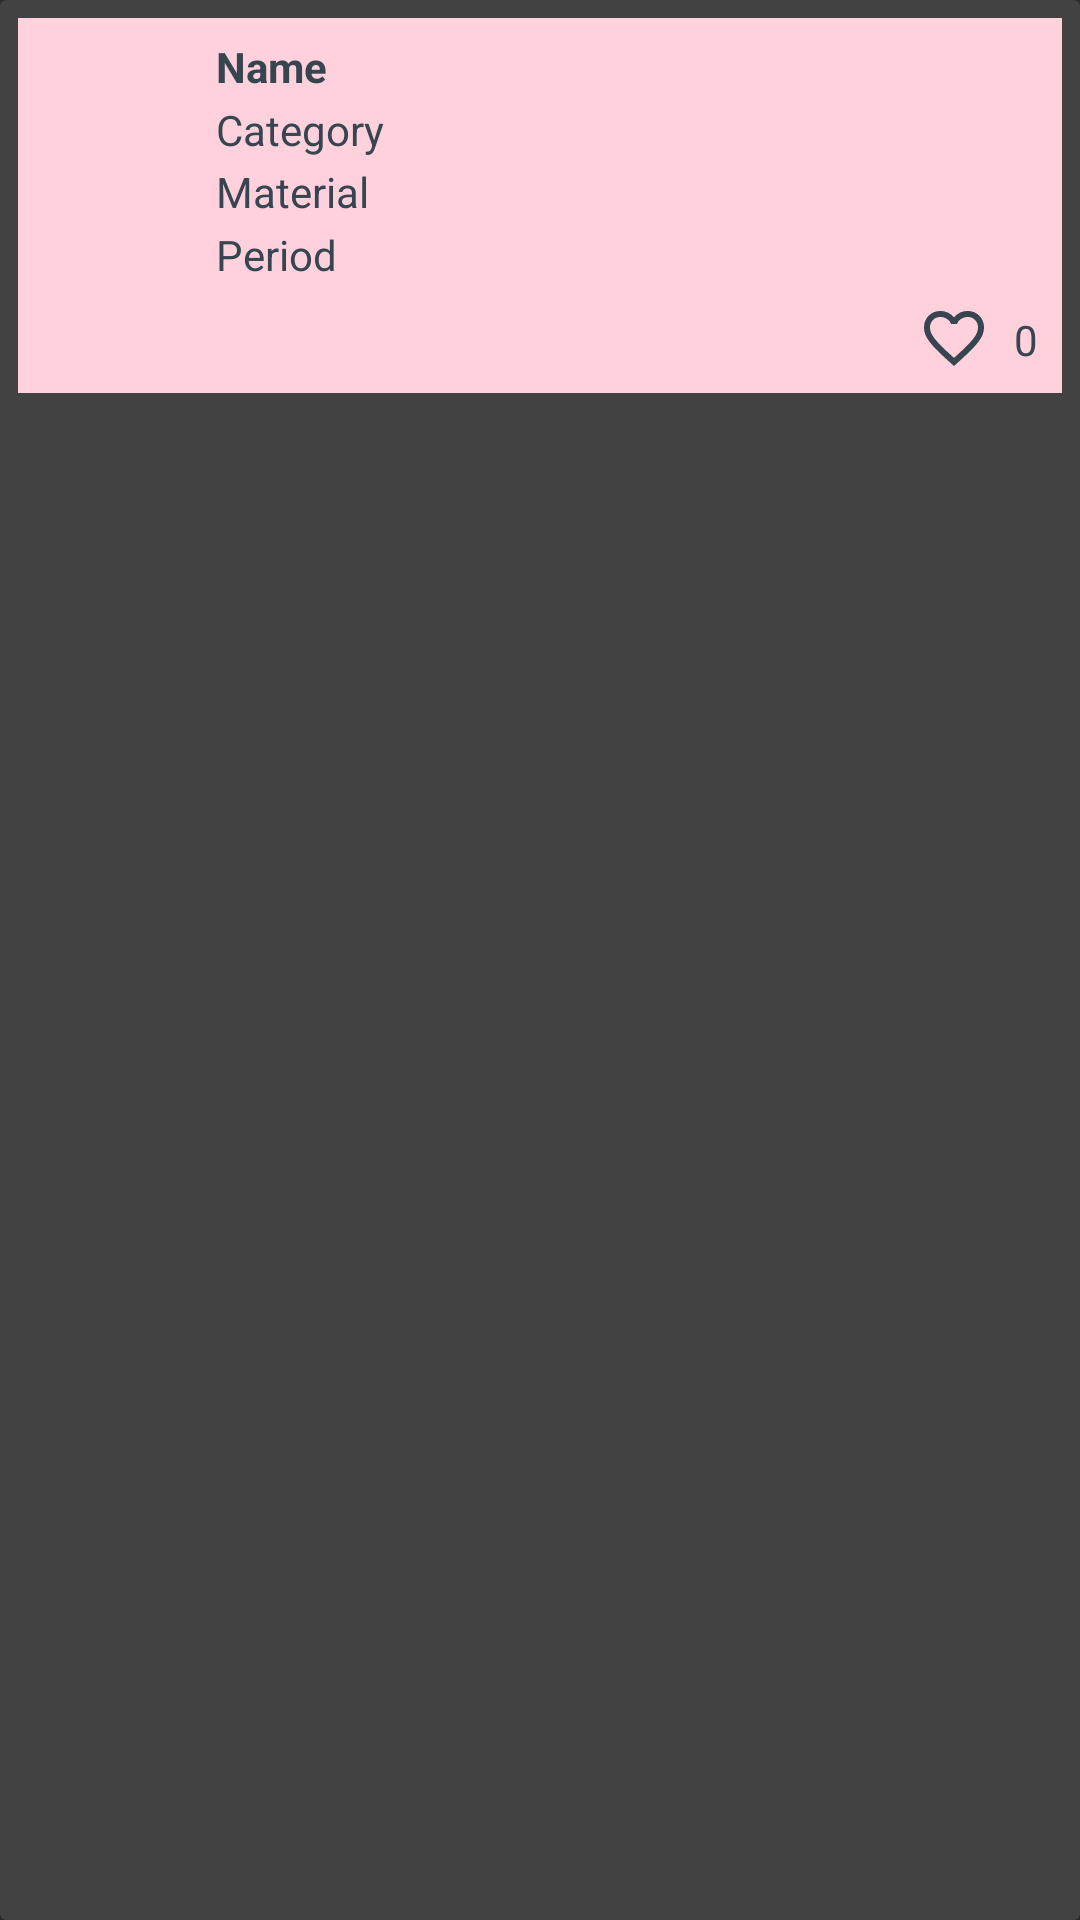

Screen size 1080px×1920px. Icon name, then its box in pixels as (x1, y1, x2, y2):
Like artifact: (924, 311, 984, 366)
